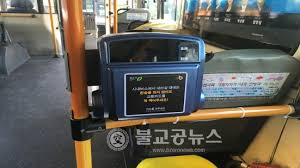terminal: (95, 29, 207, 121)
